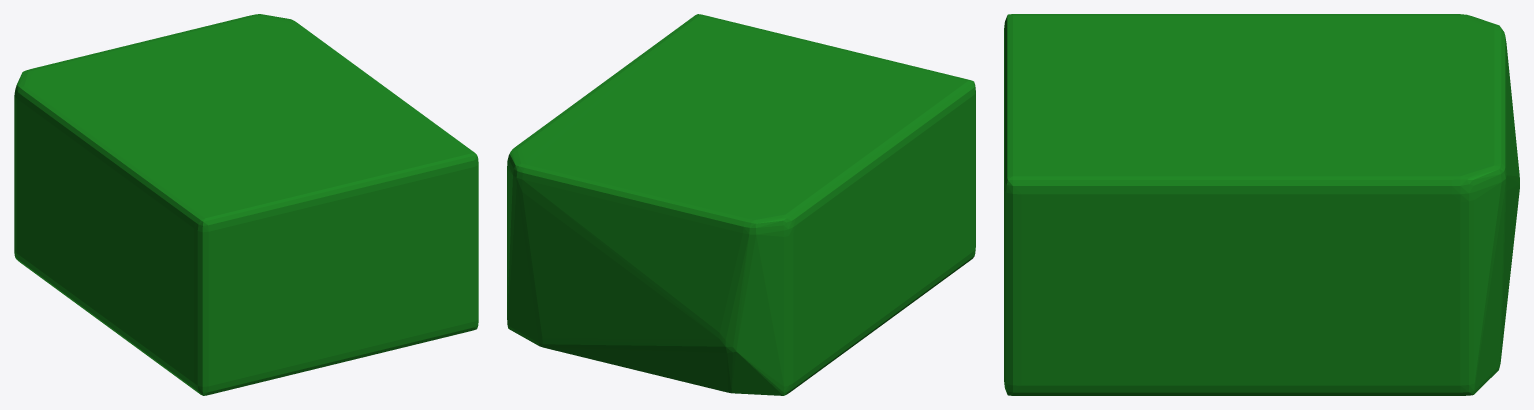
File: torso_link_part_8.obj
The picture shows the model from 3 angles, left to right: view 1: azimuth 30°, elevation 25°; view 2: azimuth 150°, elevation 25°; view 3: azimuth 270°, elevation 25°; orthographic projection. The views are drawn at different scales.
Size of the model in its own units: 0.1495 by 0.0895 by 0.1919.
